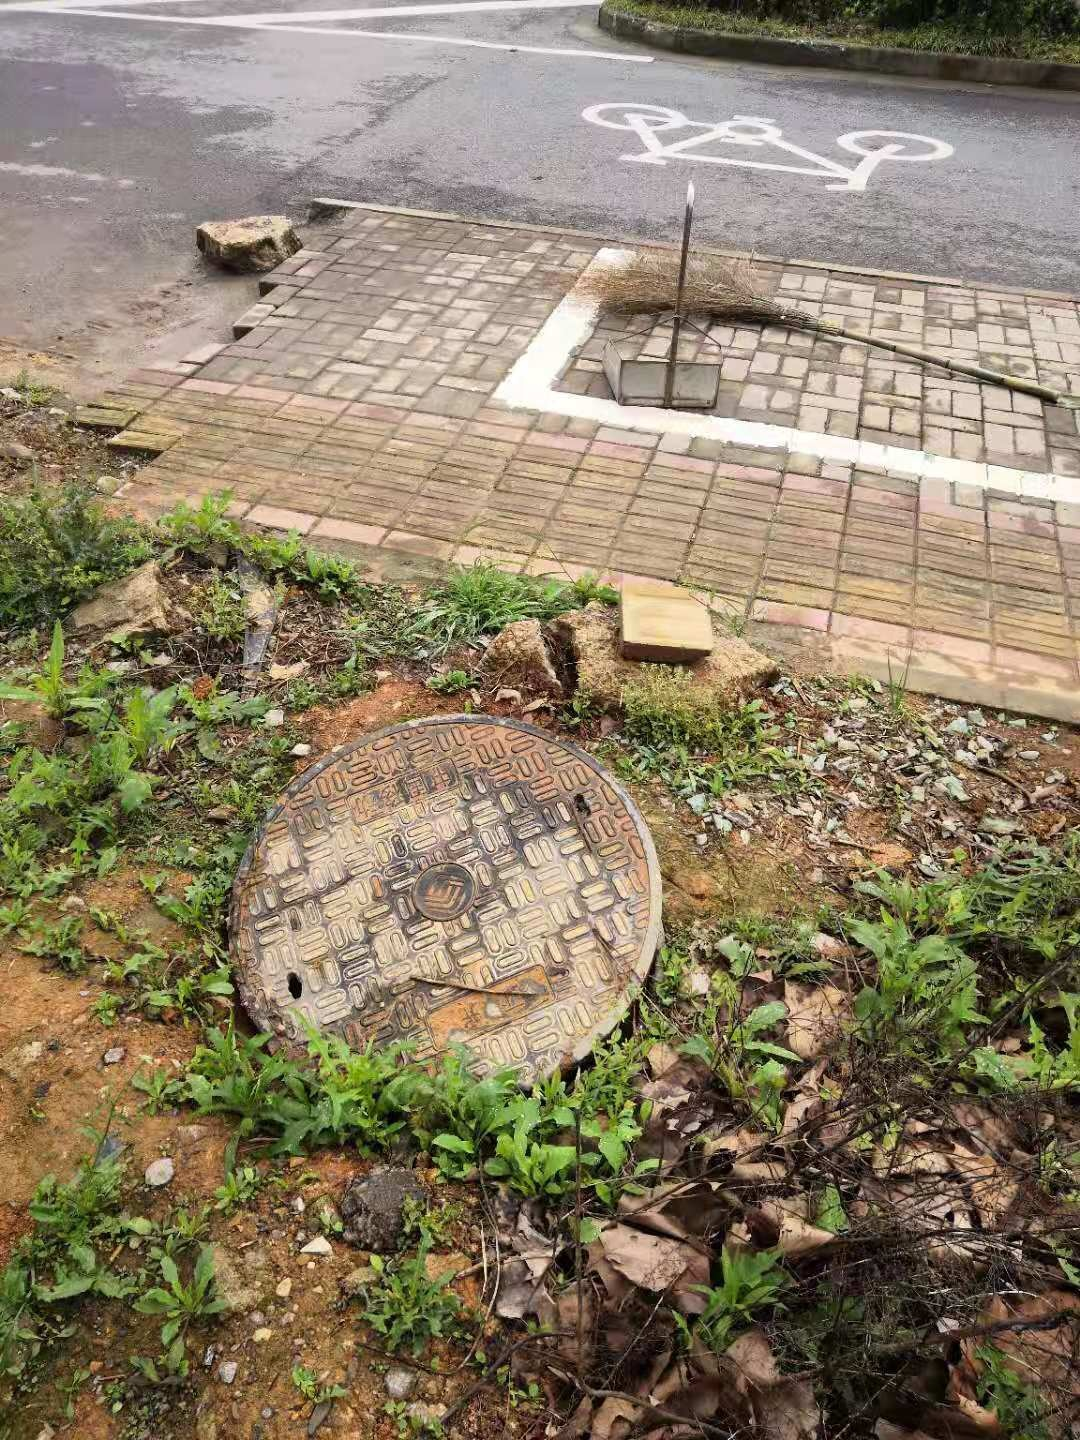uncovered: (229, 717, 665, 1100)
